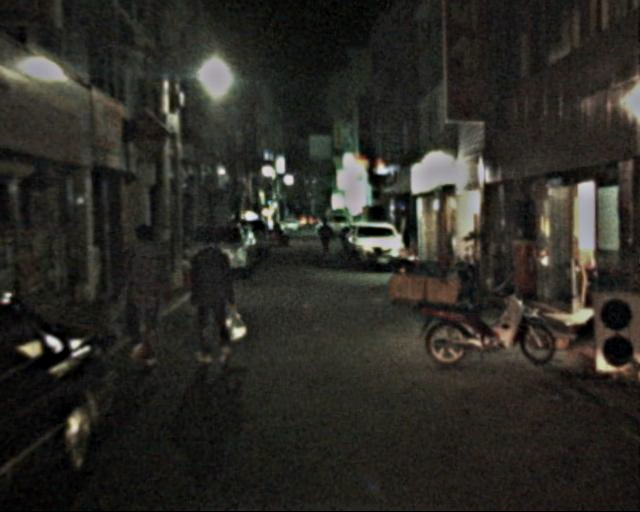person: (112, 221, 174, 364), (185, 232, 240, 367), (316, 220, 333, 261)
